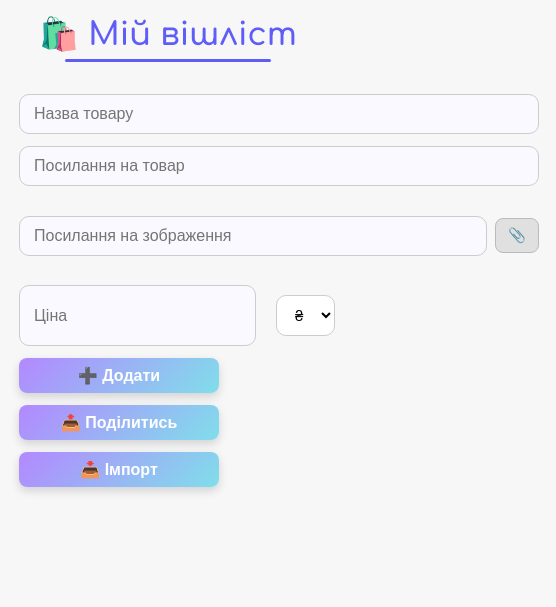
Scenario: видаляє елемент зі списку
In the field with placeholder "Назва товару": (279, 114) 19,94 -> 539,134, type "Годинник"
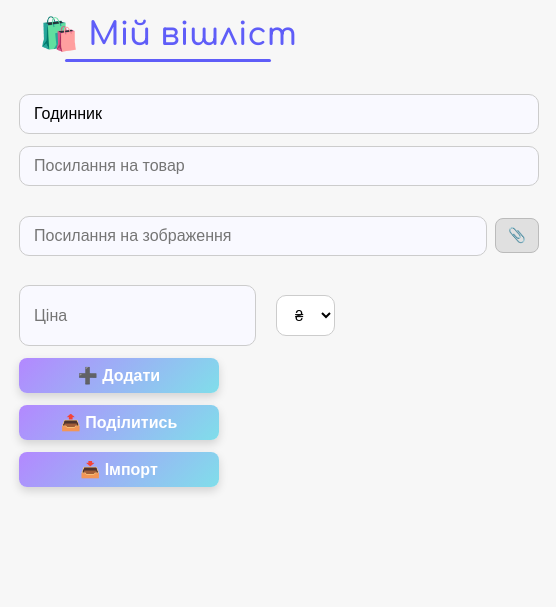
Click the button "➕ Додати": click(119, 376) 19,358 -> 219,393
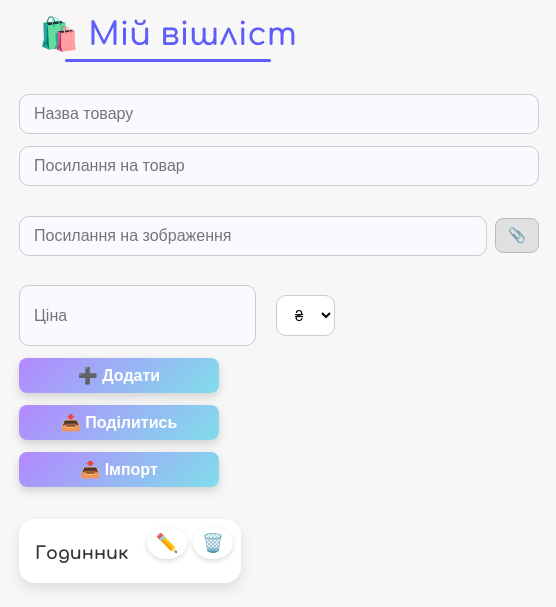
Click the button "🗑️": click(213, 543) 193,527 -> 233,559
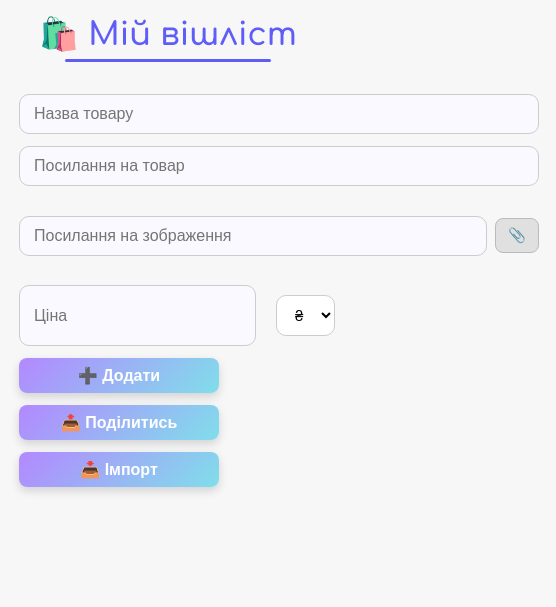
Expected: the heading "Годинник" is gone
